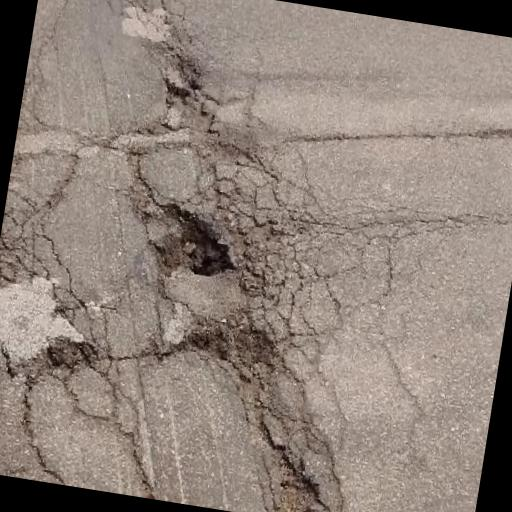pothole: (158, 199, 246, 289), (187, 310, 280, 371), (266, 454, 330, 512), (154, 48, 208, 114), (38, 332, 98, 384)
